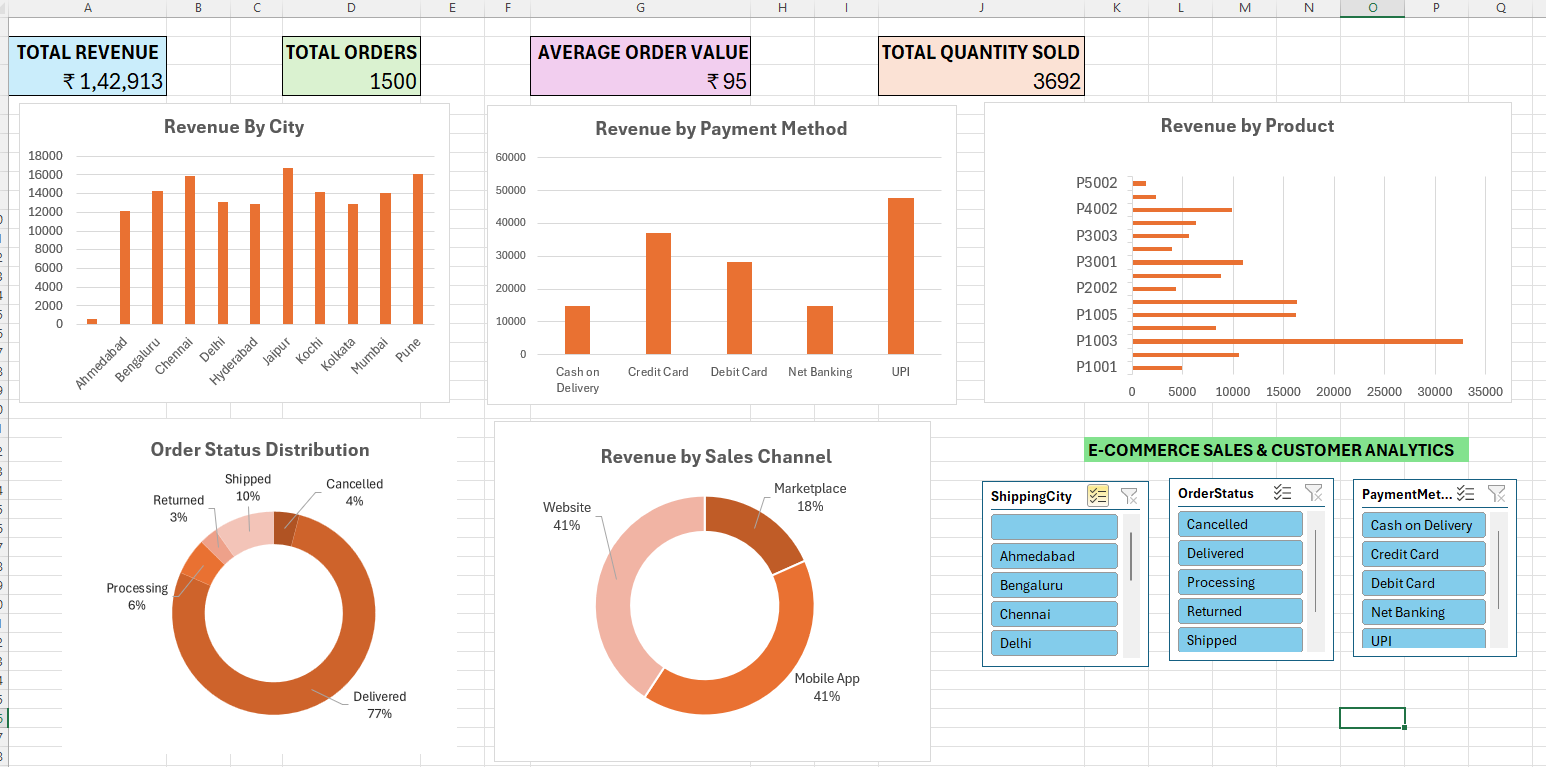

This screenshot's page, from the dashboard's own definition file:
{"tool":"powerbi","page":{"name":"Page 1","canvas":[1920,1080],"ordinal":0},"visuals":[{"type":"card","fields":{"Values":["aMeasure.Total Revenue"]},"box":[47.3,92.6,279.9,121.4],"z":0},{"type":"card","fields":{"Values":["aMeasure.Average Order Value"]},"box":[1299.3,92.3,279.9,121.4],"z":1000},{"type":"card","fields":{"Values":["aMeasure.Total Orders"]},"box":[881,92.6,279.9,121.4],"z":2000},{"type":"card","fields":{"Values":["aMeasure.Total Quantity Sold"]},"box":[465.2,92.6,279.9,121.4],"z":3000},{"type":"clusteredColumnChart","fields":{"Category":["ecommerce_orders.ShippingCity"],"Y":["aMeasure.Total Revenue"]},"box":[10.3,238.8,531,405.5],"z":4000},{"type":"donutChart","title":"Order by Status","fields":{"Category":["ecommerce_orders.OrderStatus"],"Y":["CountNonNull(ecommerce_orders.OrderID)"]},"box":[10.3,669,529,411.7],"z":5000},{"type":"clusteredBarChart","title":"Revenue by Product","fields":{"Category":["ecommerce_products.ProductName"],"Y":["aMeasure.Total Revenue"]},"box":[555.7,238.8,526.9,407.5],"z":6000},{"type":"donutChart","title":"Revenue by Payment Method","fields":{"Category":["ecommerce_orders.PaymentMethod"],"Y":["aMeasure.Total Revenue"]},"box":[553.7,669,529,411.7],"z":7000},{"type":"donutChart","title":"Revenue by Sales Channel","fields":{"Category":["ecommerce_orders.SalesChannel"],"Y":["aMeasure.Total Revenue"]},"box":[1105.3,669,529,411.7],"z":8000},{"type":"lineChart","title":"Monthly Revenue Trend","fields":{"Category":["ecommerce_orders.OrderDate.Variation.Date Hierarchy.Year","ecommerce_orders.OrderDate.Variation.Date Hierarchy.Month"],"Y":["aMeasure.Total Revenue"]},"box":[1105.3,238.8,529,407.5],"z":9000},{"type":"slicer","fields":{"Values":["ecommerce_orders.ShippingCity"]},"box":[1652.2,238.9,228,257],"z":10000},{"type":"slicer","title":"Order Status","fields":{"Values":["ecommerce_orders.OrderStatus"]},"box":[1652.2,515.8,228.5,261.4],"z":11000},{"type":"slicer","fields":{"Values":["ecommerce_orders.PaymentMethod"]},"box":[1652.2,798.1,228,266],"z":12000},{"type":"textbox","box":[275.1,18.1,1433,72],"z":13000},{"type":"image","box":[59.7,97.7,83.2,65.1],"z":14000},{"type":"image","box":[479.6,103.2,88.7,59.7],"z":15000},{"type":"image","box":[890.4,97.7,99.5,65.1],"z":16000},{"type":"image","box":[1315.6,103.2,85.1,65.1],"z":17000}]}

Visuals, with their boxes on the page's 1920x1080 design canvas (x1, y1, x2, y2). These are canvas units, not pixel positions in the 1546x767 screenshot, which may show the page scaled, cropped or inside an application window:
card - aMeasure.Total Revenue: 47 93 327 214
card - aMeasure.Average Order Value: 1299 92 1579 214
card - aMeasure.Total Orders: 881 93 1161 214
card - aMeasure.Total Quantity Sold: 465 93 745 214
clusteredColumnChart - ecommerce_orders.ShippingCity x aMeasure.Total Revenue: 10 239 541 644
"Order by Status" donutChart: 10 669 539 1081
"Revenue by Product" clusteredBarChart: 556 239 1083 646
"Revenue by Payment Method" donutChart: 554 669 1083 1081
"Revenue by Sales Channel" donutChart: 1105 669 1634 1081
"Monthly Revenue Trend" lineChart: 1105 239 1634 646
slicer - ecommerce_orders.ShippingCity: 1652 239 1880 496
"Order Status" slicer: 1652 516 1881 777
slicer - ecommerce_orders.PaymentMethod: 1652 798 1880 1064
textbox: 275 18 1708 90
image: 60 98 143 163
image: 480 103 568 163
image: 890 98 990 163
image: 1316 103 1401 168
